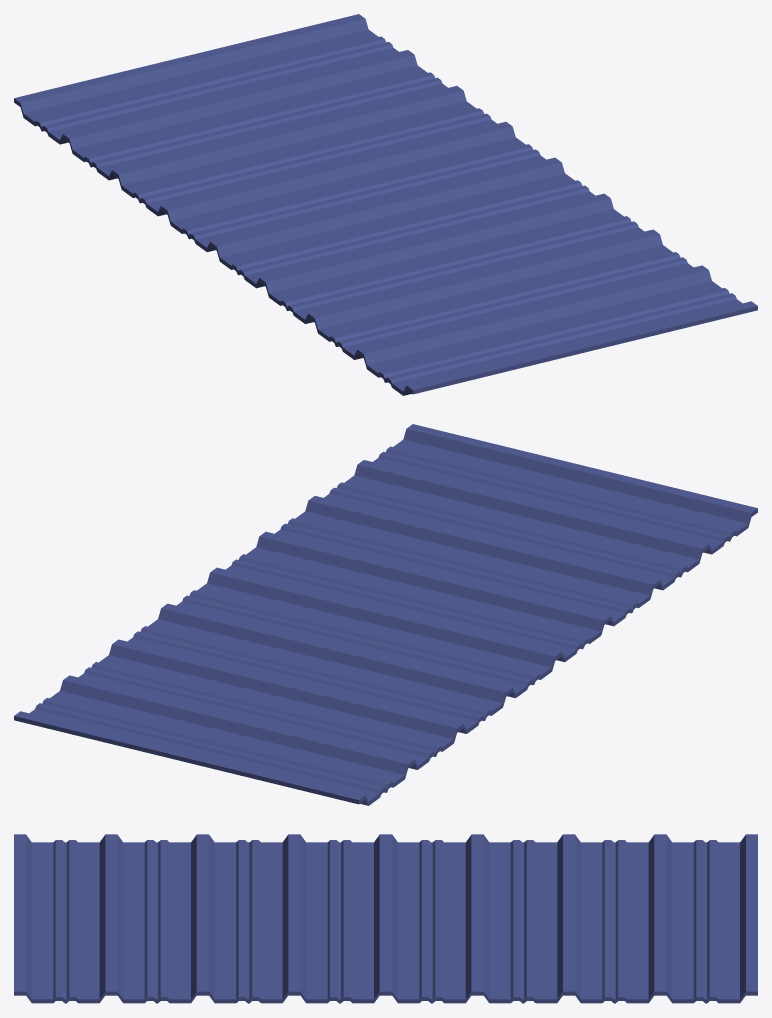
Rendered from platform5.glb.
3 views of the same model, one above another, from view 1: azimuth 30°, elevation 25°; view 2: azimuth 150°, elevation 25°; view 3: azimuth 270°, elevation 25° (orthographic). The views are drawn at different scales.
Visible parts, largest first — view 1: Roof; view 2: Roof; view 3: Roof.
Boxes of the visible parts, box(x1,y1,x2,y2) form: Roof: box(14, 14, 757, 395); Roof: box(14, 424, 757, 805); Roof: box(14, 834, 757, 1003).
Bounding box in the file's own units: 2.84 × 0.1011 × 5.69.
